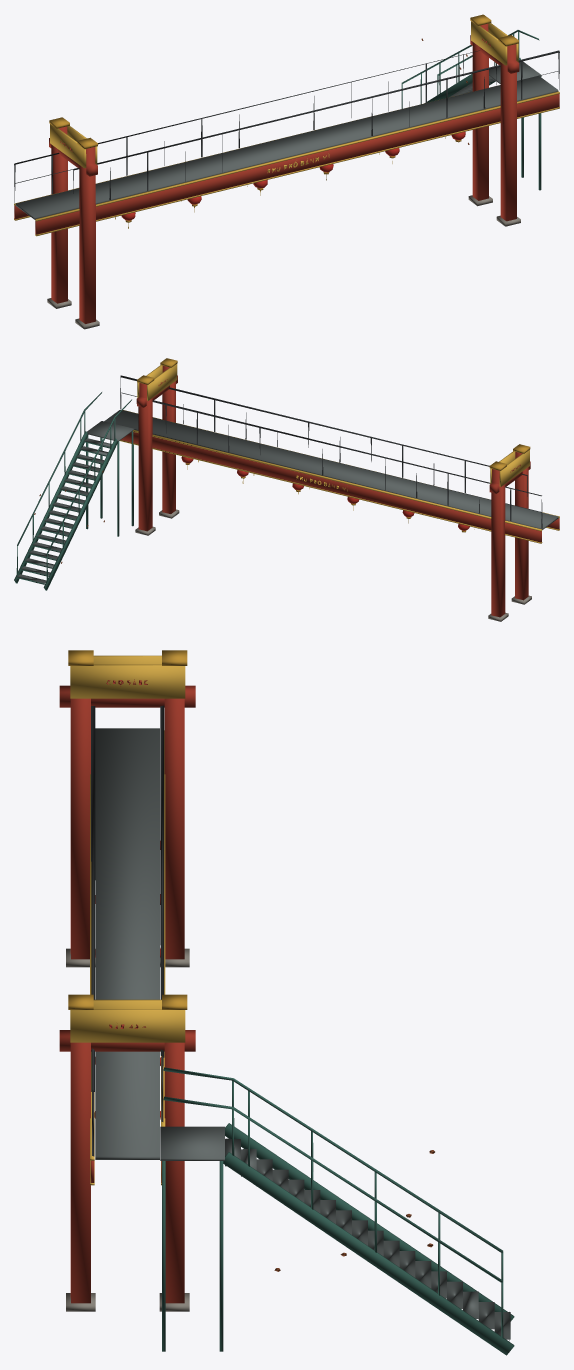
Rendered from cong_chao_game.glb.
3 views of the same model, one above another, from view 1: azimuth 30°, elevation 25°; view 2: azimuth 150°, elevation 25°; view 3: azimuth 270°, elevation 25° (orthographic). The views are drawn at different scales.
Parts seen in each view (by area): view 1: cong_chao_game; view 2: cong_chao_game; view 3: cong_chao_game.
Boxes of the visible parts, left/top/right/bottom form: cong_chao_game: left=14, top=14, right=559, bottom=329; cong_chao_game: left=14, top=358, right=559, bottom=621; cong_chao_game: left=59, top=650, right=514, bottom=1355.
Bounding box in the file's own units: 14.13 × 4.75 × 6.3.
